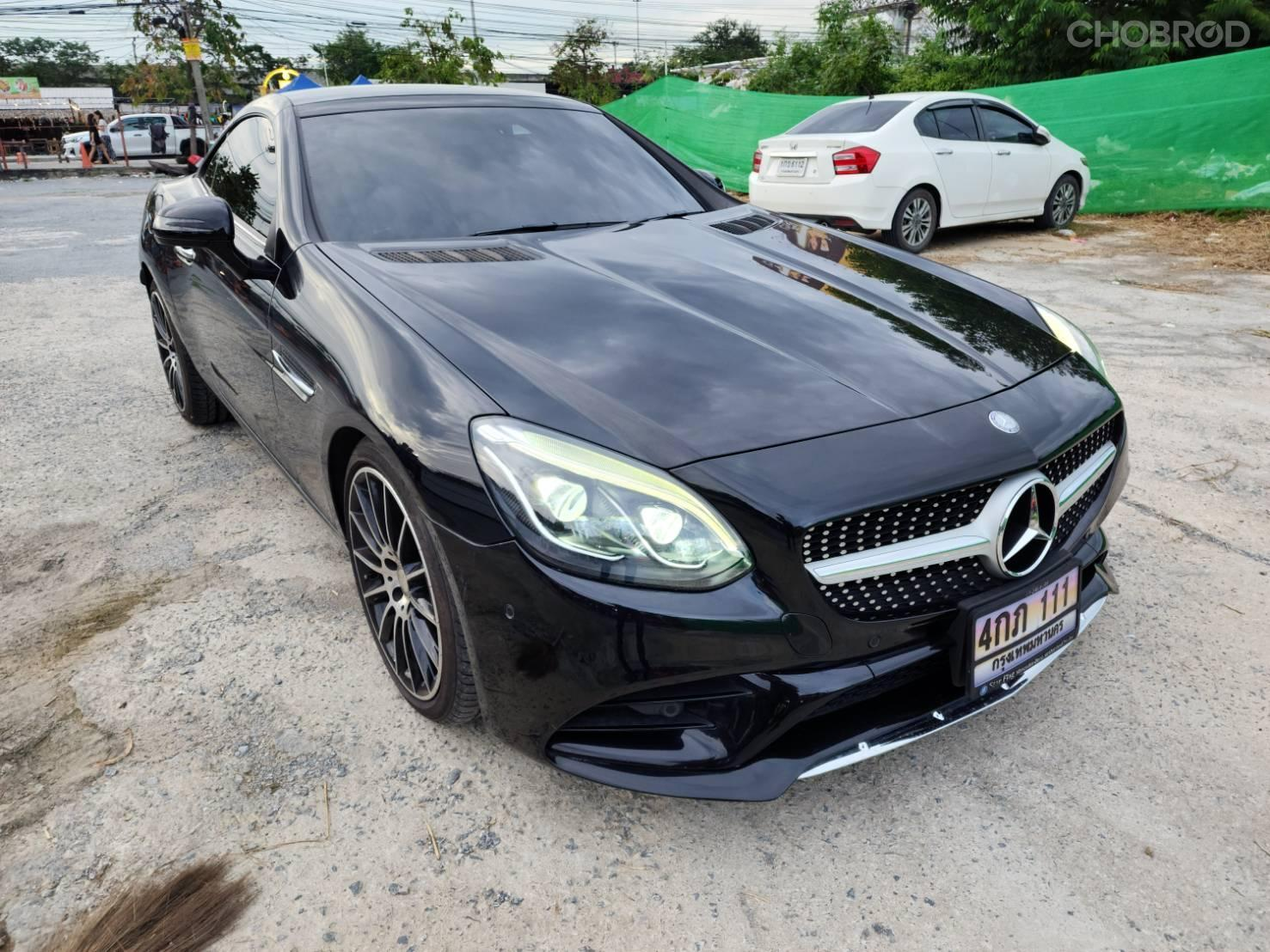license-plate: (939, 557, 1095, 709)
